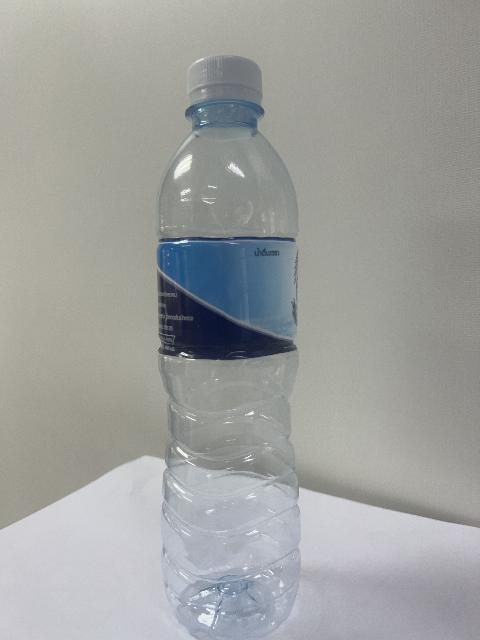bottle: (158, 56, 300, 639)
